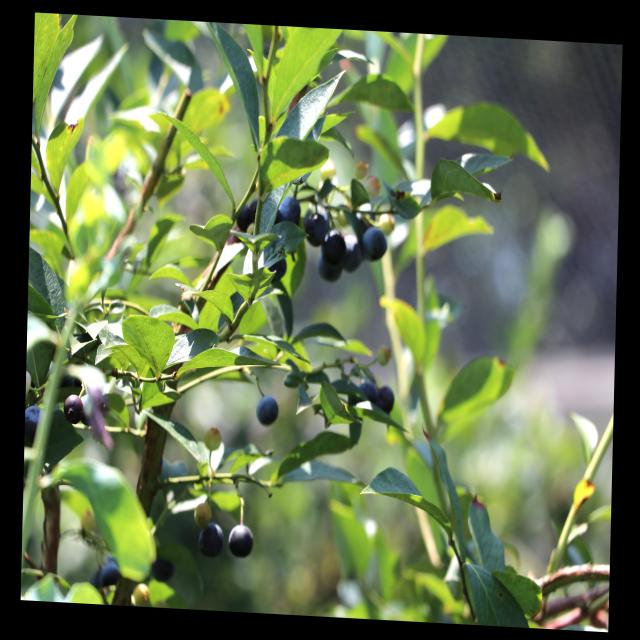blueberry: (340, 231, 365, 276), (302, 205, 329, 246), (196, 520, 225, 558), (319, 229, 347, 265), (227, 523, 254, 560), (362, 224, 388, 262), (254, 393, 280, 427), (280, 192, 302, 228), (24, 401, 42, 444), (63, 392, 83, 428), (376, 382, 396, 414)
blueberry-unripe: (202, 422, 222, 450), (379, 210, 397, 239), (375, 342, 392, 368), (318, 160, 337, 181), (365, 174, 381, 198), (354, 158, 370, 182)
